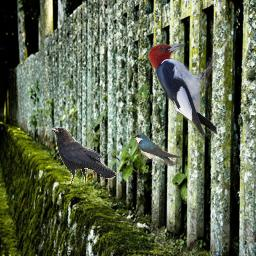Crow: (50, 127, 116, 184)
Swallow: (133, 132, 180, 166)
Woodpecker: (146, 40, 221, 138)
